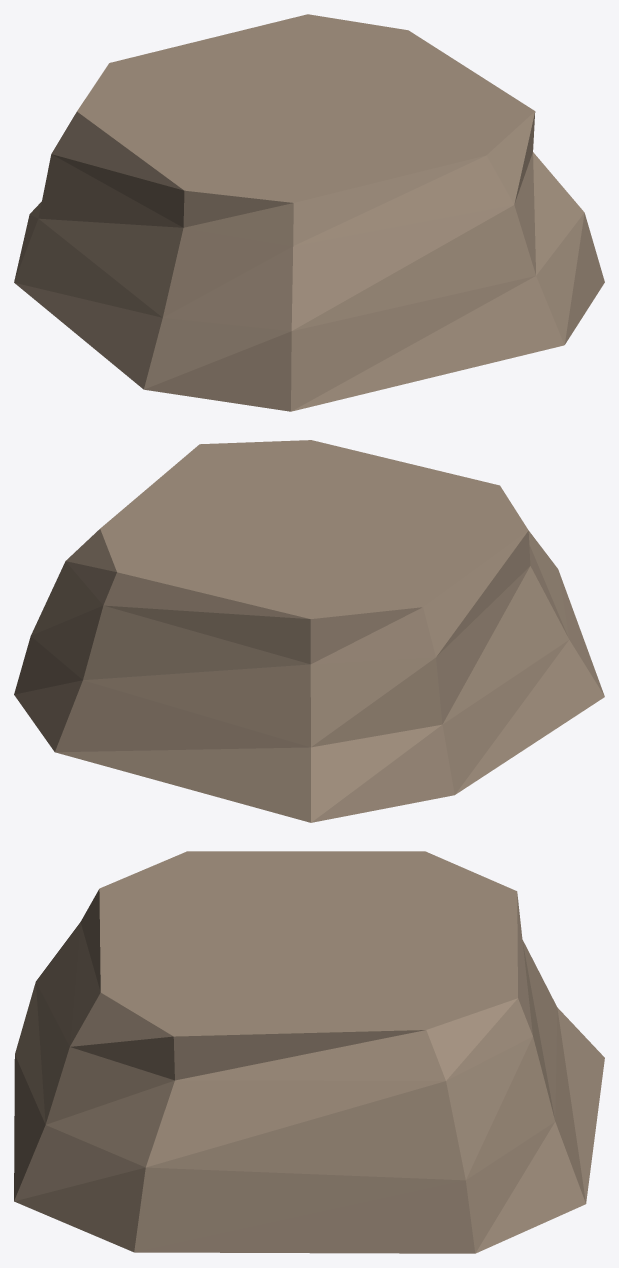
Rendered from magma_escape_rock_1.obj.
3 views of the same model, one above another, from view 1: azimuth 30°, elevation 25°; view 2: azimuth 150°, elevation 25°; view 3: azimuth 270°, elevation 25° (orthographic). The views are drawn at different scales.
Parts seen in each view (by area): view 1: magma_escape_rock_1; view 2: magma_escape_rock_1; view 3: magma_escape_rock_1.
Boxes of the visible parts, x1,y1,x2,y2 form: magma_escape_rock_1: [14, 14, 604, 411]; magma_escape_rock_1: [14, 440, 604, 822]; magma_escape_rock_1: [14, 851, 604, 1253].
Size of the model in its own units: 2.81 by 1 by 2.85.
